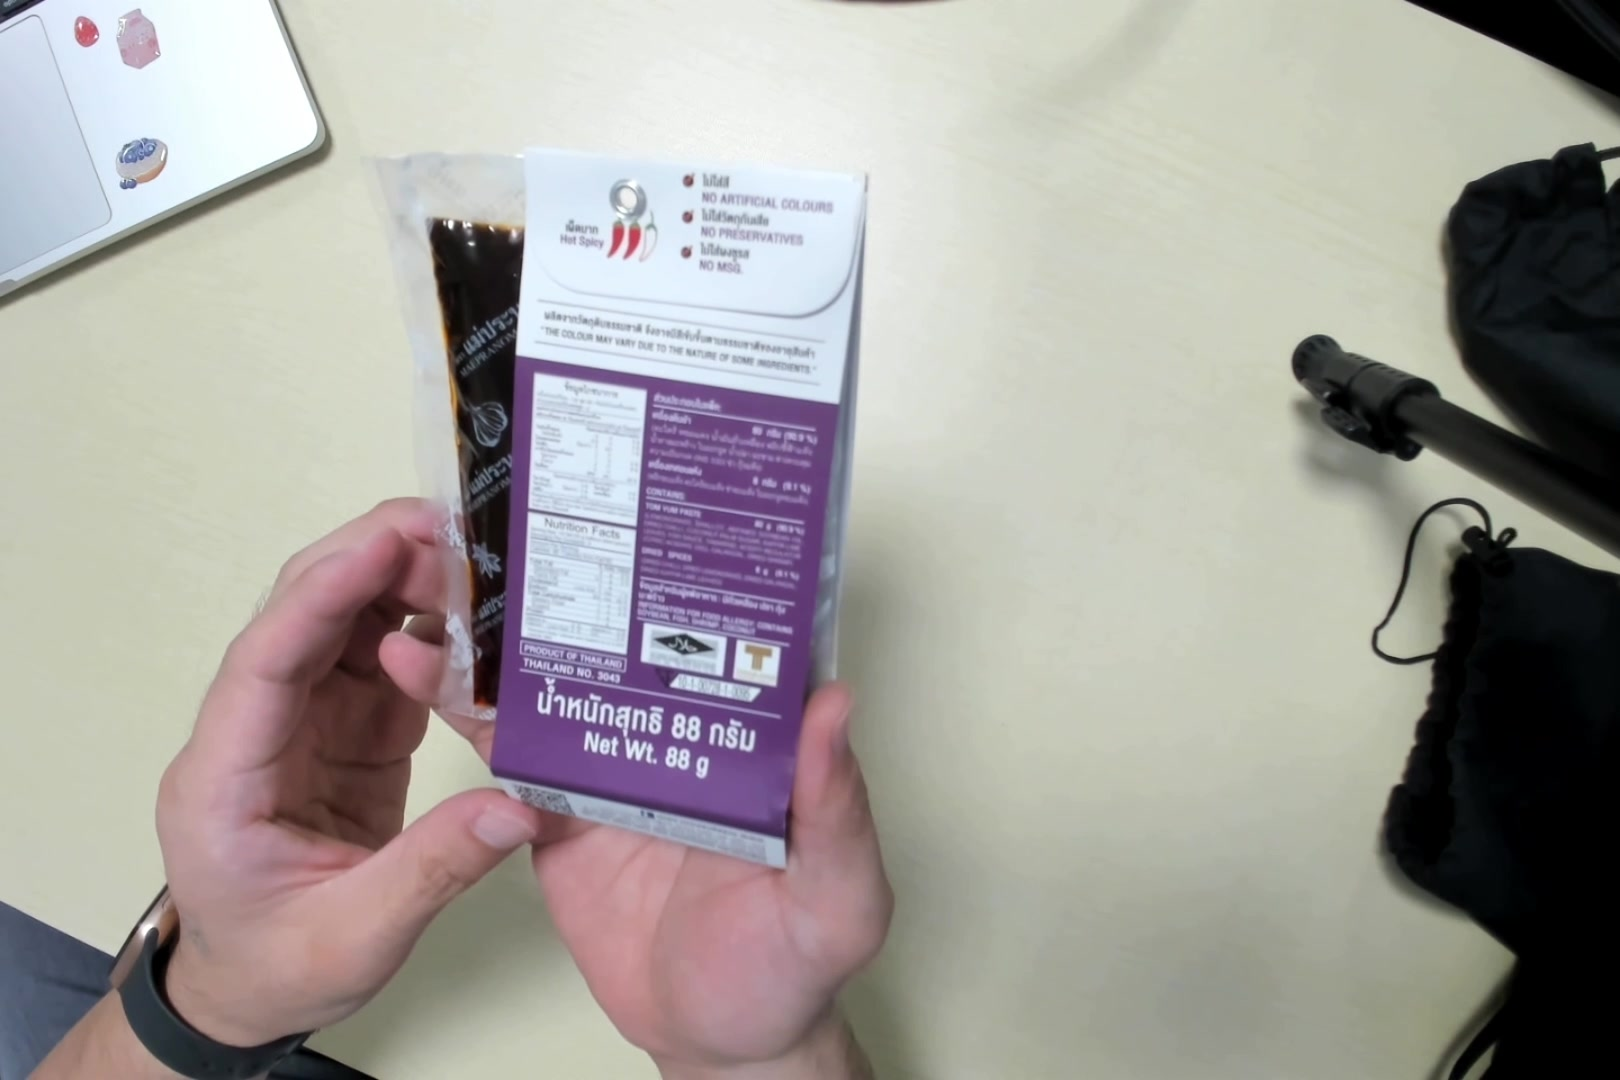OtherSauceDressingSoupBaswPaste_0-99g_Halal_NonHealthy: (389, 152, 841, 853)
